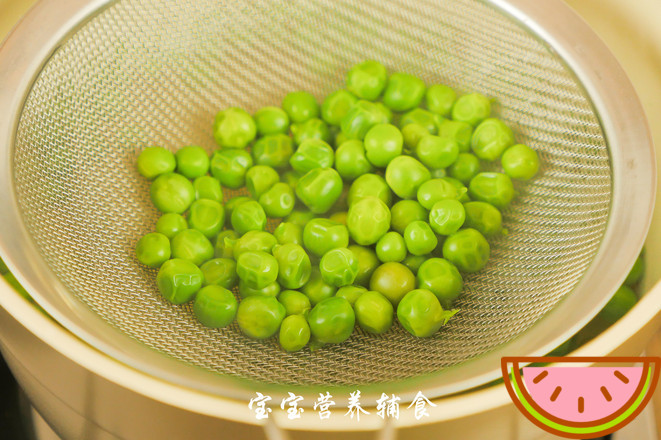boiled peas: (208, 113, 463, 307)
